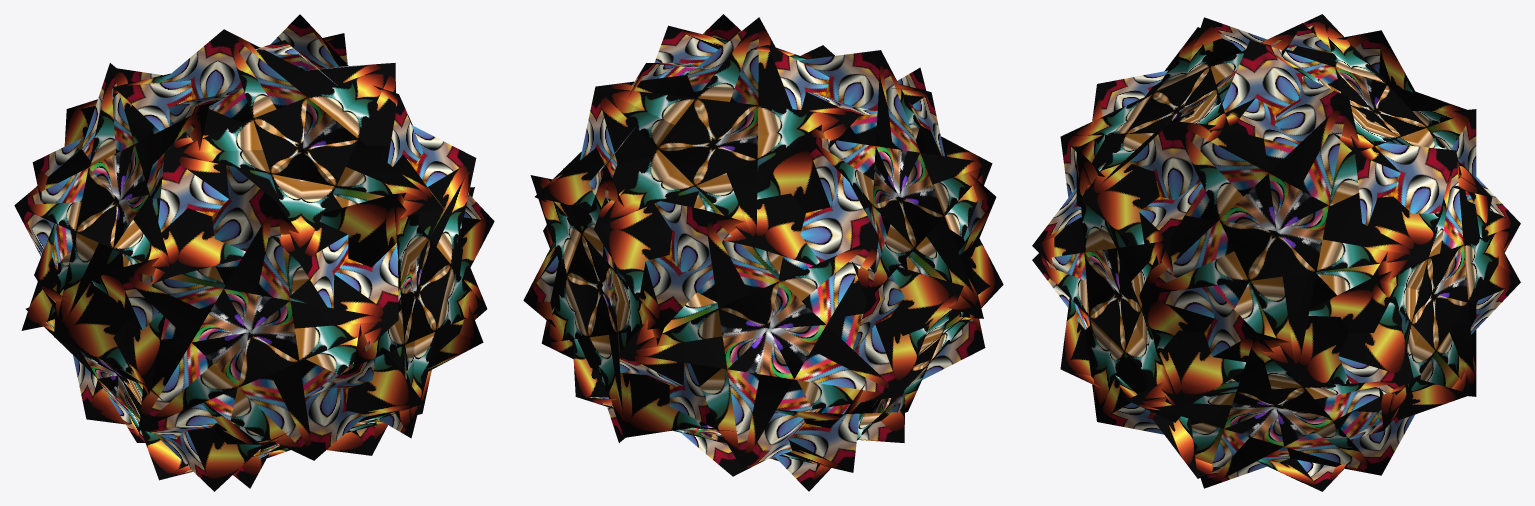
File: InvertedSnubDodecadodecahedron12a.gltf
The picture shows the model from 3 angles, left to right: view 1: azimuth 30°, elevation 25°; view 2: azimuth 150°, elevation 25°; view 3: azimuth 270°, elevation 25°; orthographic projection.
Parts seen in each view (by area): view 1: InvertedSnubDodecadodecahedron12a; view 2: InvertedSnubDodecadodecahedron12a; view 3: InvertedSnubDodecadodecahedron12a.
Part boxes in pixels (x1,y1,x2,y2): InvertedSnubDodecadodecahedron12a: (14,14,494,491); InvertedSnubDodecadodecahedron12a: (523,14,1003,491); InvertedSnubDodecadodecahedron12a: (1032,14,1520,491).
Bounding box in the file's own units: 1.69 × 1.69 × 1.69.
Materials: 1 (1 with a texture image).
